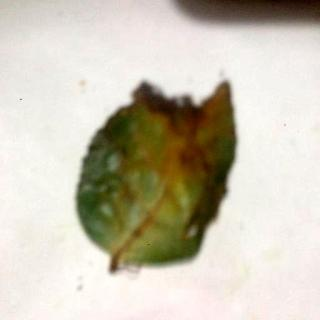Red Leaf Spot: (77, 82, 239, 273)
